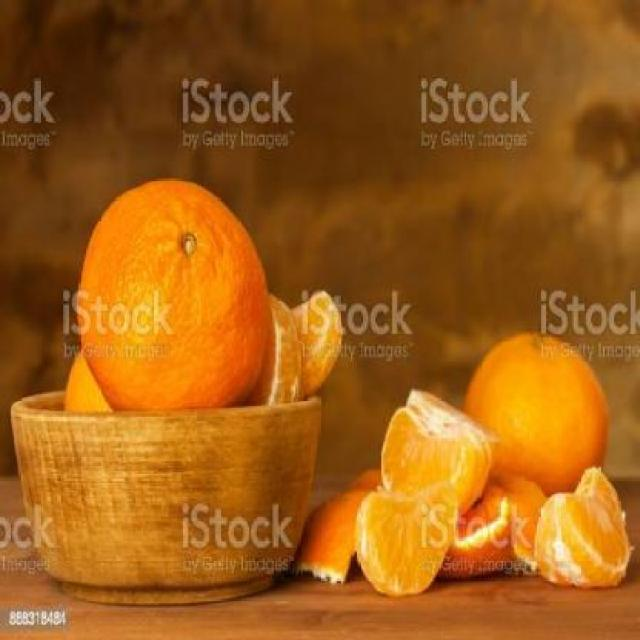Orange: (72, 175, 271, 411), (463, 329, 609, 494), (378, 386, 492, 514), (531, 466, 632, 589), (352, 484, 457, 596), (61, 346, 112, 412)
